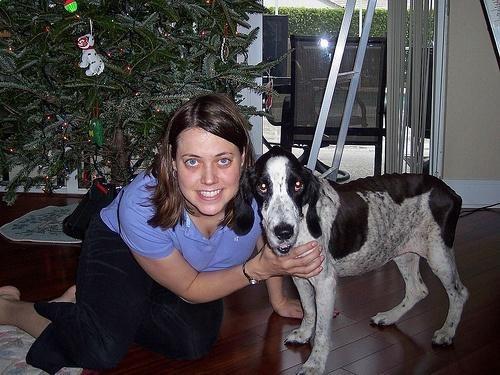face: (177, 127, 241, 214)
